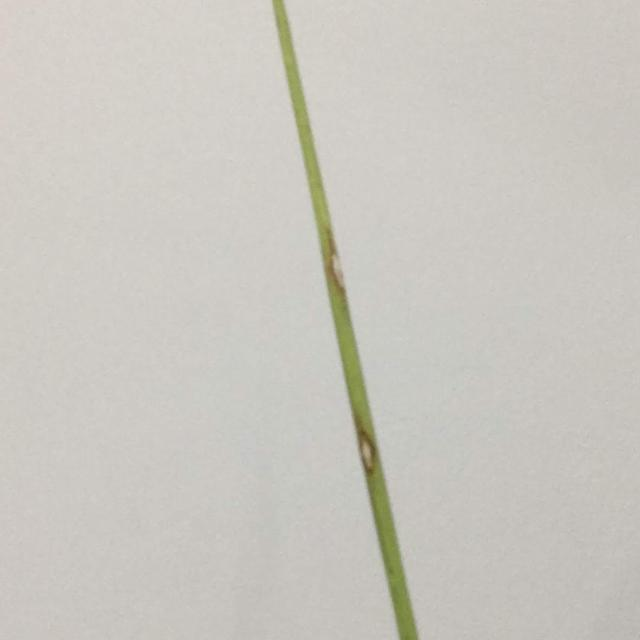Blast: (330, 247, 344, 294), (361, 436, 378, 474)
